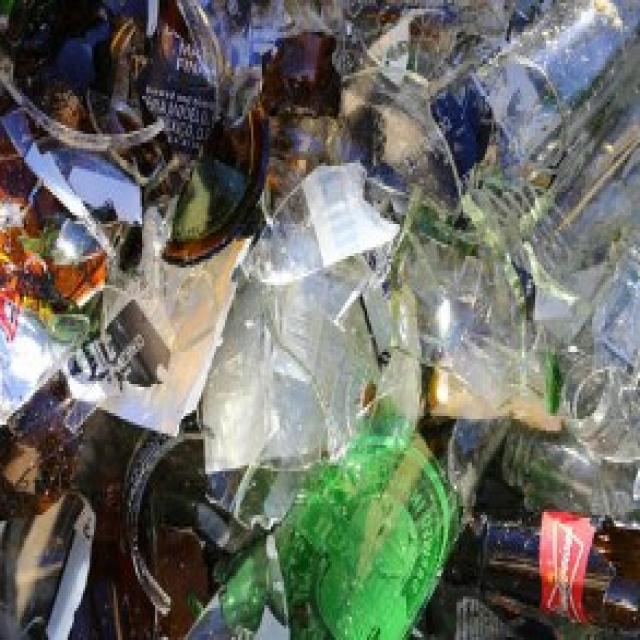electronic: (173, 407, 470, 640)
